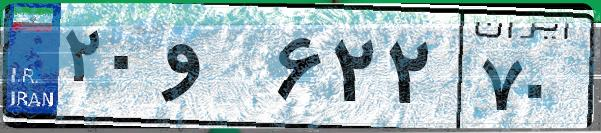0: (525, 38, 570, 115), (110, 28, 158, 98)
2: (385, 28, 445, 110), (330, 28, 385, 110), (57, 26, 110, 100)
6: (270, 28, 330, 110)
7: (475, 38, 525, 113)
و: (158, 20, 270, 120)
